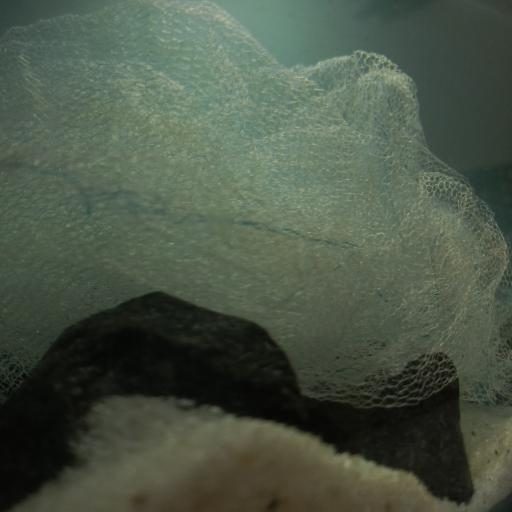net: (3, 1, 510, 413)
